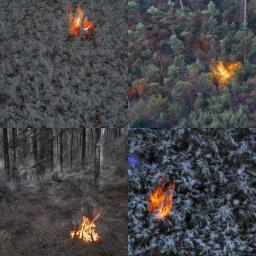Small fire: (60, 216, 105, 244), (67, 2, 101, 39), (211, 55, 241, 89), (148, 185, 174, 221)
